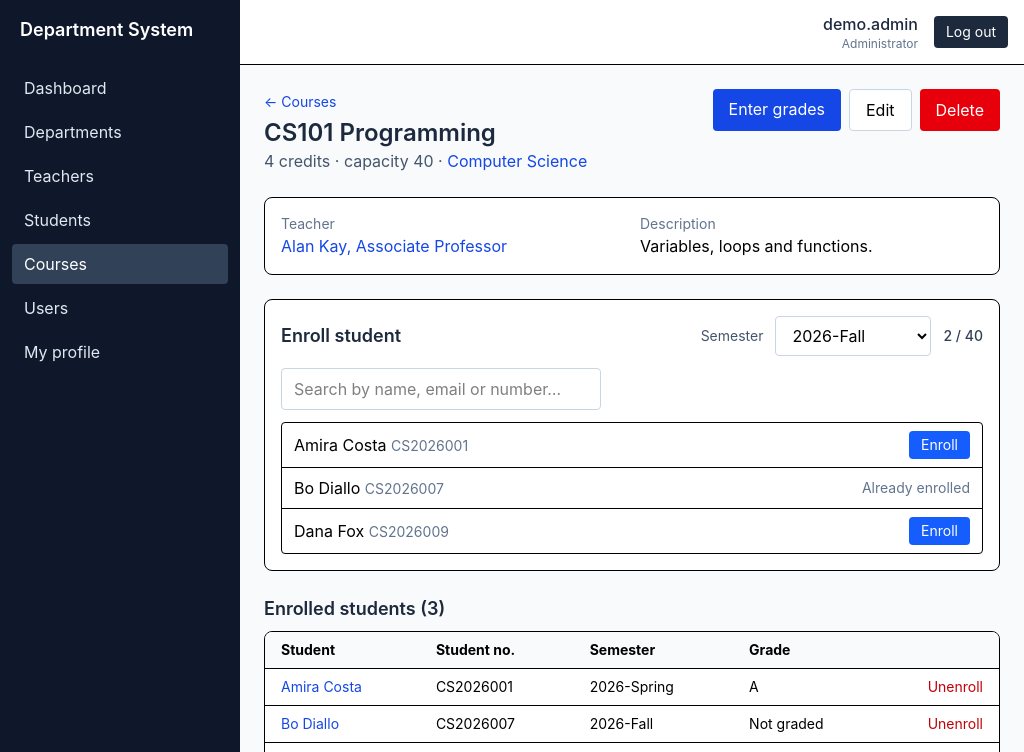
errors are shown clearly › capacity: the server message is shown in the panel
Click the button with aria-label "Enroll Dana Fox" at (940, 531), box [909,517,970,545]
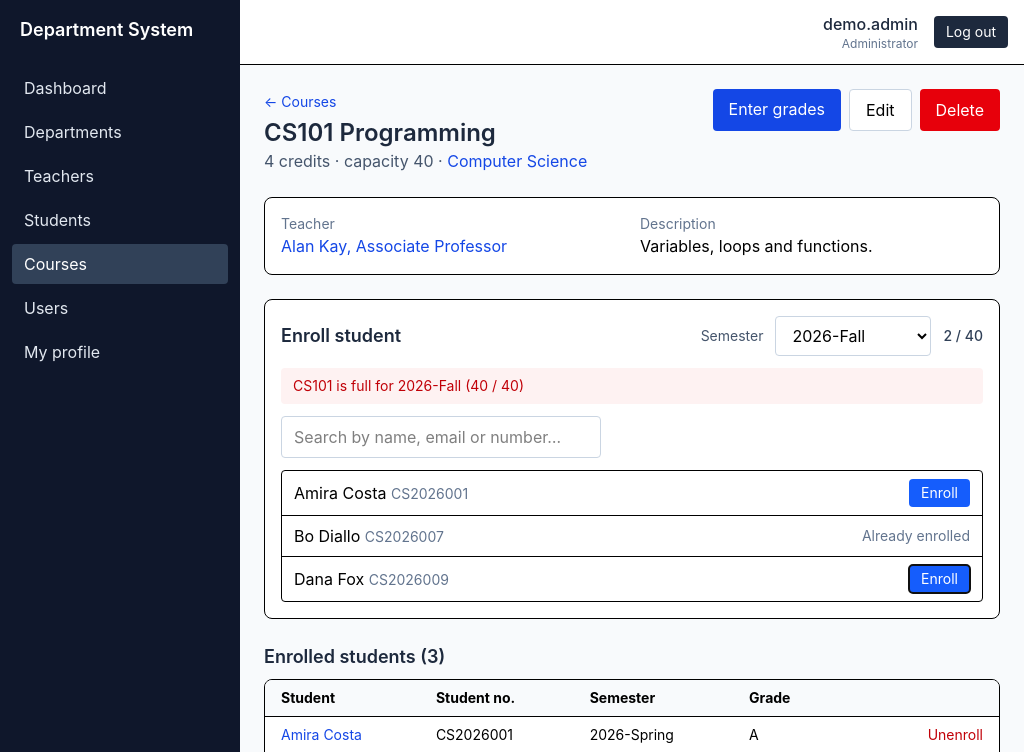
Now the message reads "CS101 is full for 2026-Fall (40 / 40)", box [293,377,524,394]
